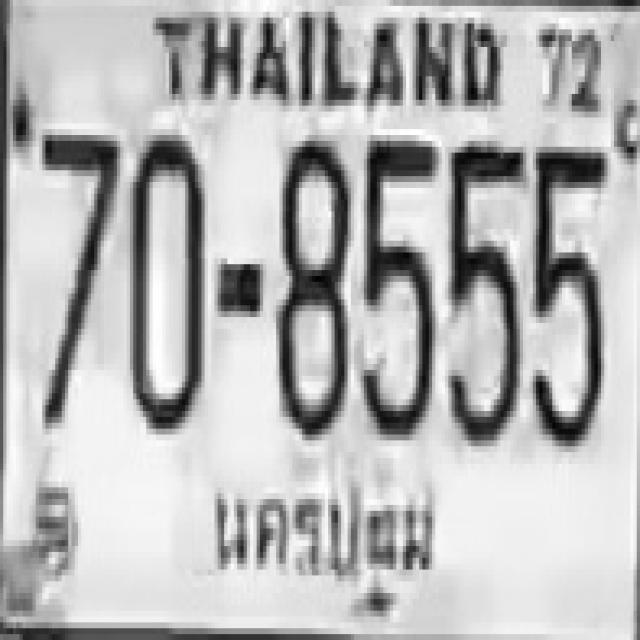0: (127, 129, 201, 429)
5: (445, 135, 523, 440), (530, 141, 604, 446), (359, 135, 434, 435)
7: (39, 129, 117, 423)
8: (273, 135, 348, 435)
NPT: (208, 464, 438, 628)
